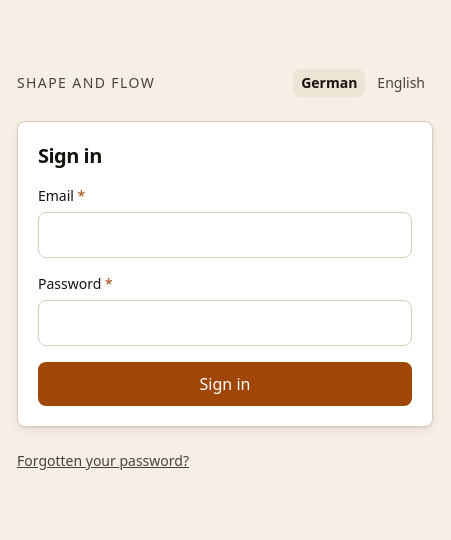
Test: OfficeLogin › separates an unreachable server from a wrong password
Step 1. Type "mara@shapeandflow.test" into the field labelled "Email *" → (225, 235), box [38,212,412,258]
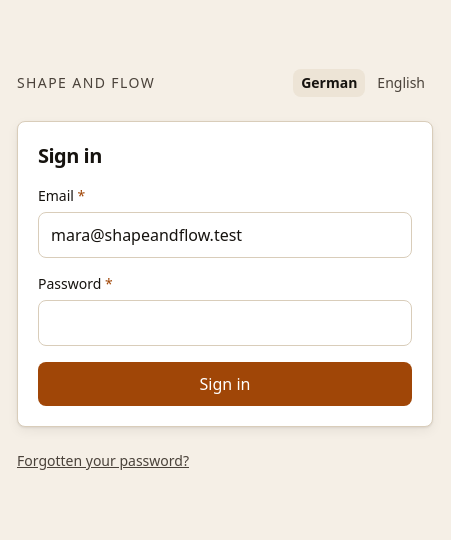
Step 2. Type "correct horse battery" into the password field labelled "Password *" → (225, 323), box [38,300,412,346]
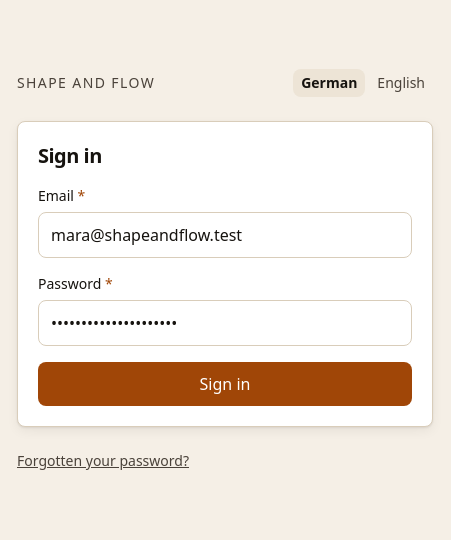
Step 3. Submit the form, box [38,186,412,406]
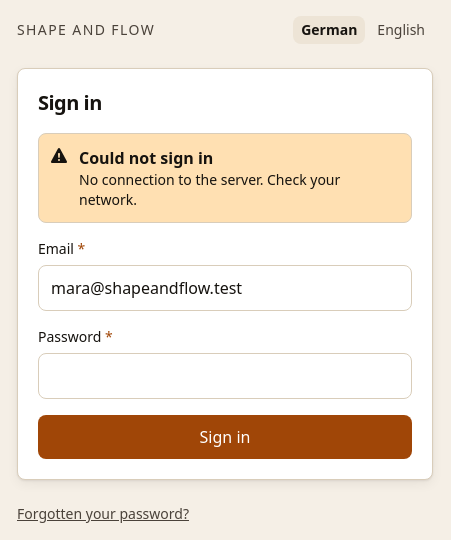
Expected: the message with test id "problem" shows "No connection", [79,170,340,209]
